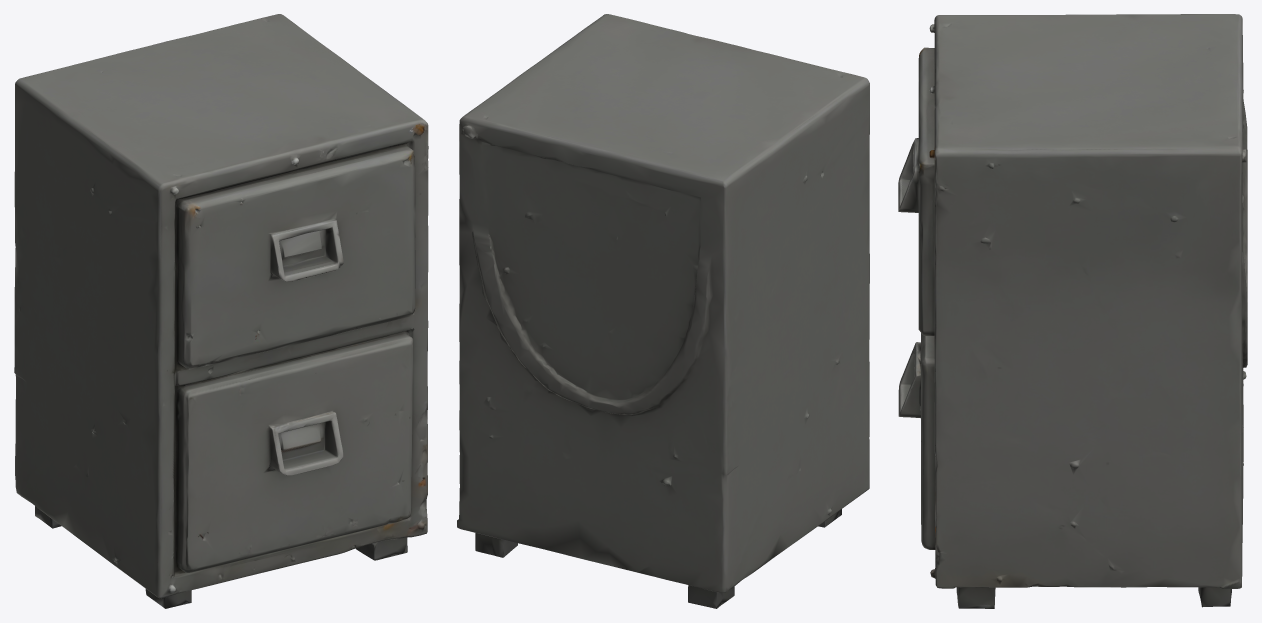
The model's file is level0-manila-cabinet.glb.
The picture shows the model from 3 angles, left to right: view 1: azimuth 30°, elevation 25°; view 2: azimuth 150°, elevation 25°; view 3: azimuth 270°, elevation 25°; orthographic projection. The views are drawn at different scales.
Parts seen in each view (by area): view 1: tripo_node_db4427ab-434b-4a96-aac7-8cbdffd1c9be; view 2: tripo_node_db4427ab-434b-4a96-aac7-8cbdffd1c9be; view 3: tripo_node_db4427ab-434b-4a96-aac7-8cbdffd1c9be.
Part boxes in pixels (left/top/right/bottom): tripo_node_db4427ab-434b-4a96-aac7-8cbdffd1c9be: left=14, top=14, right=428, bottom=608; tripo_node_db4427ab-434b-4a96-aac7-8cbdffd1c9be: left=457, top=14, right=869, bottom=608; tripo_node_db4427ab-434b-4a96-aac7-8cbdffd1c9be: left=898, top=14, right=1247, bottom=608.
Size of the model in its own units: 0.6508 by 0.9998 by 0.6798.
Materials: 1 (1 with a texture image).
